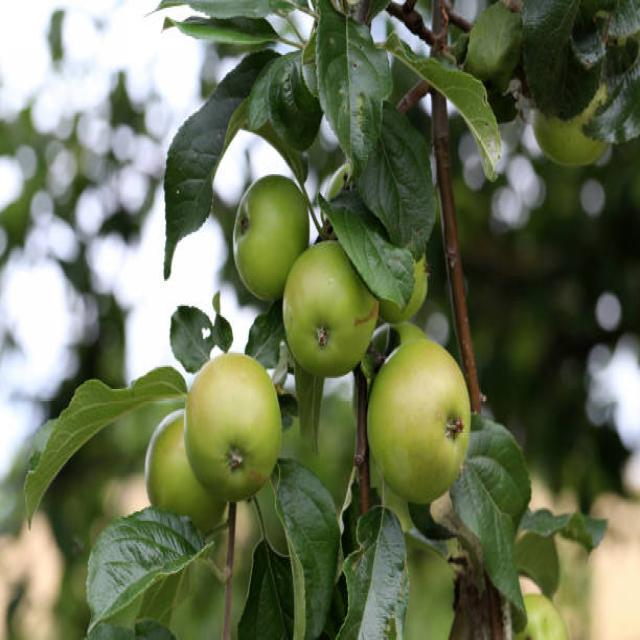Unripe: (364, 334, 469, 498), (185, 353, 281, 505), (282, 241, 378, 376)
